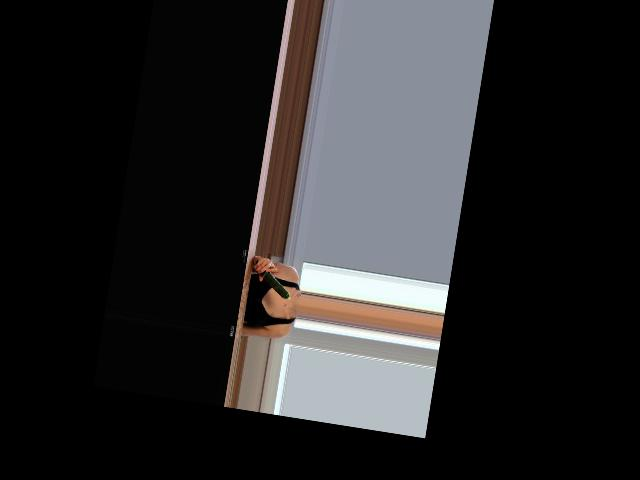cucumber: (250, 259, 295, 299)
